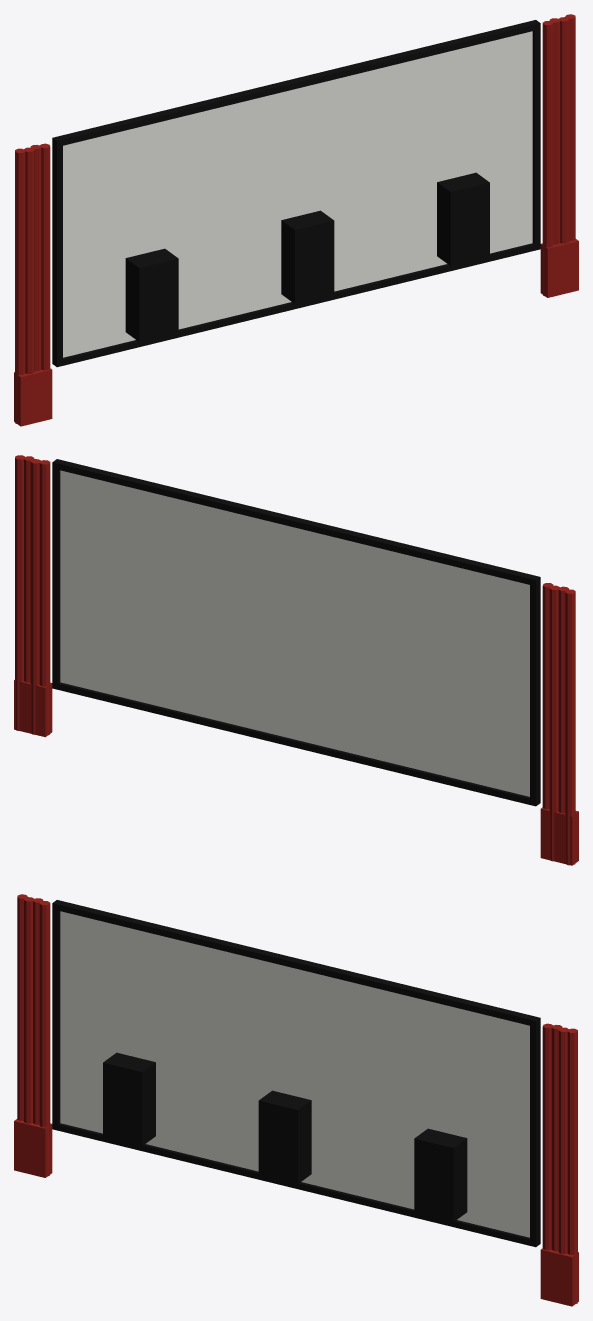
File: venue.cinema.cinema_screen.glb
3 renders of one model, top to bottom at view 1: azimuth 30°, elevation 25°; view 2: azimuth 150°, elevation 25°; view 3: azimuth 330°, elevation 25°, orthographic.
Parts seen in each view (by area): view 1: main__paint_white, main__plastic_black, main__fabric_red; view 2: main__paint_white, main__fabric_red, main__plastic_black; view 3: main__paint_white, main__plastic_black, main__fabric_red.
Part boxes in pixels (x1=…): main__paint_white: x1=63, y1=31, x2=532, y2=357; main__plastic_black: x1=52, y1=20, x2=540, y2=367; main__fabric_red: x1=14, y1=14, x2=578, y2=426; main__paint_white: x1=60, y1=470, x2=529, y2=796; main__fabric_red: x1=14, y1=455, x2=578, y2=865; main__plastic_black: x1=52, y1=459, x2=540, y2=806; main__paint_white: x1=60, y1=911, x2=529, y2=1237; main__plastic_black: x1=52, y1=900, x2=540, y2=1247; main__fabric_red: x1=14, y1=894, x2=578, y2=1306.
Size of the model in its own units: 14.24 by 6.7 by 0.97.
